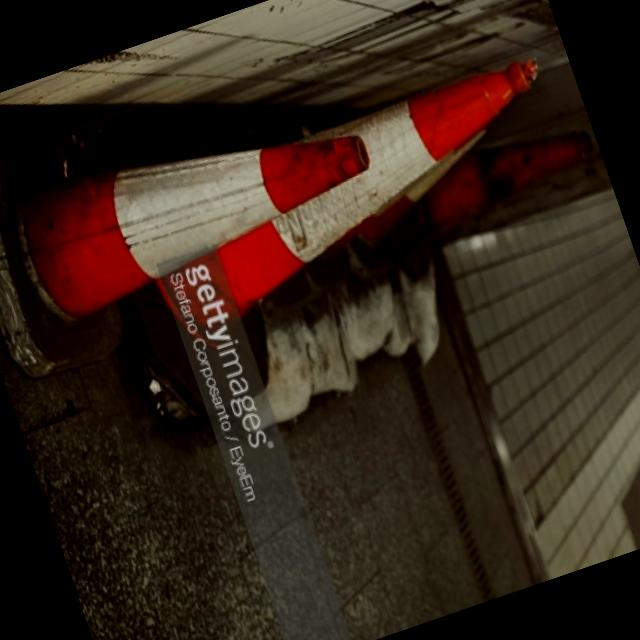cone: (0, 42, 417, 381)
